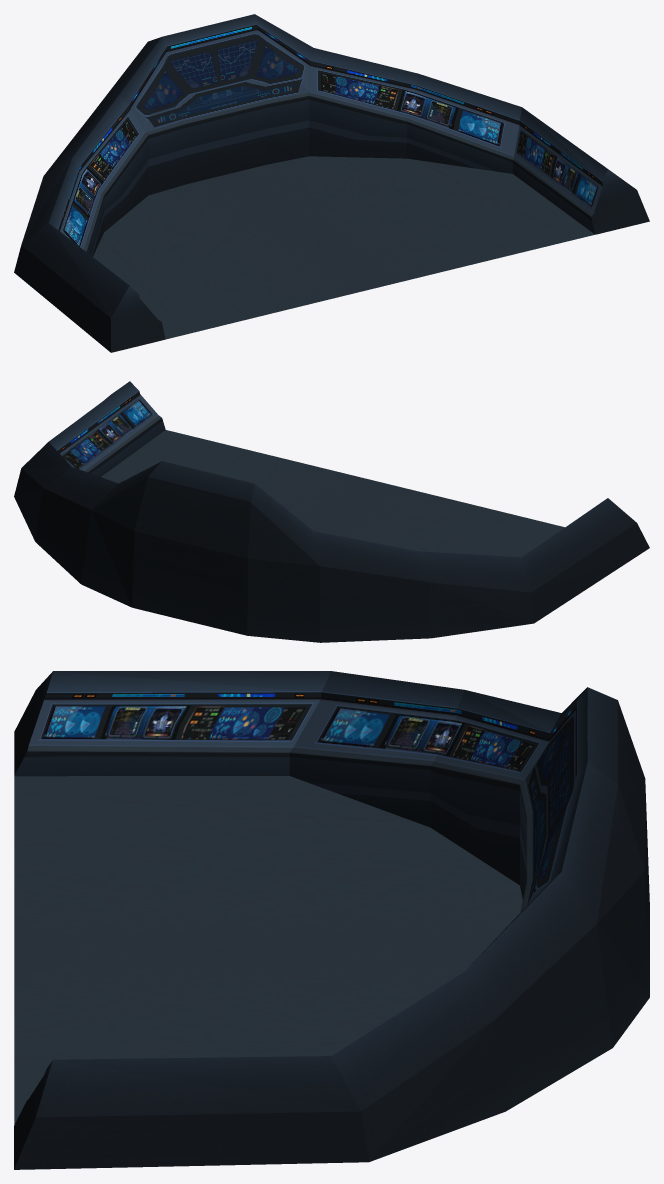
Rendered from 驾驶舱.obj.
3 renders of one model, top to bottom at view 1: azimuth 30°, elevation 25°; view 2: azimuth 150°, elevation 25°; view 3: azimuth 270°, elevation 25°, orthographic. The views are drawn at different scales.
Size of the model in its own units: 1206 by 291 by 740.
